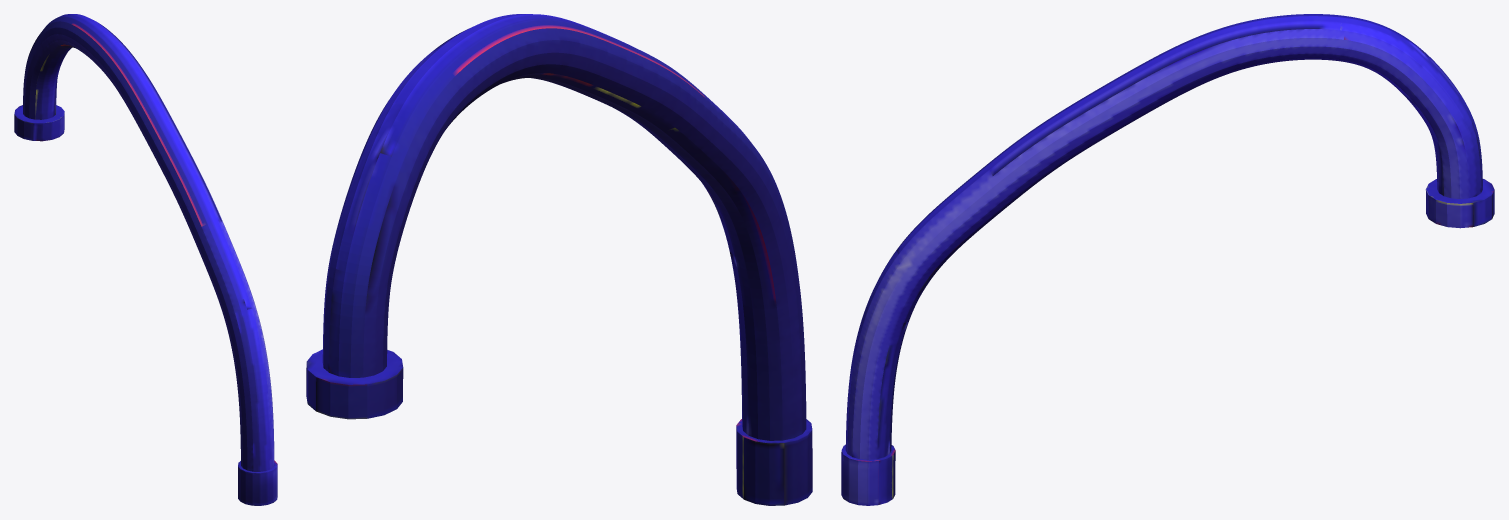
File: bomb_wire_b.gltf
3 renders of one model, left to right at view 1: azimuth 30°, elevation 25°; view 2: azimuth 150°, elevation 25°; view 3: azimuth 270°, elevation 25°, orthographic. The views are drawn at different scales.
Visible parts, largest first — view 1: wireB; view 2: wireB; view 3: wireB.
Boxes of the visible parts, x1,y1,x2,y2 form: wireB: [14, 14, 277, 505]; wireB: [306, 14, 812, 505]; wireB: [841, 14, 1494, 505].
Size of the model in its own units: 0.7521 by 5.77 by 7.15.
Materials: 1 (1 with a texture image).
